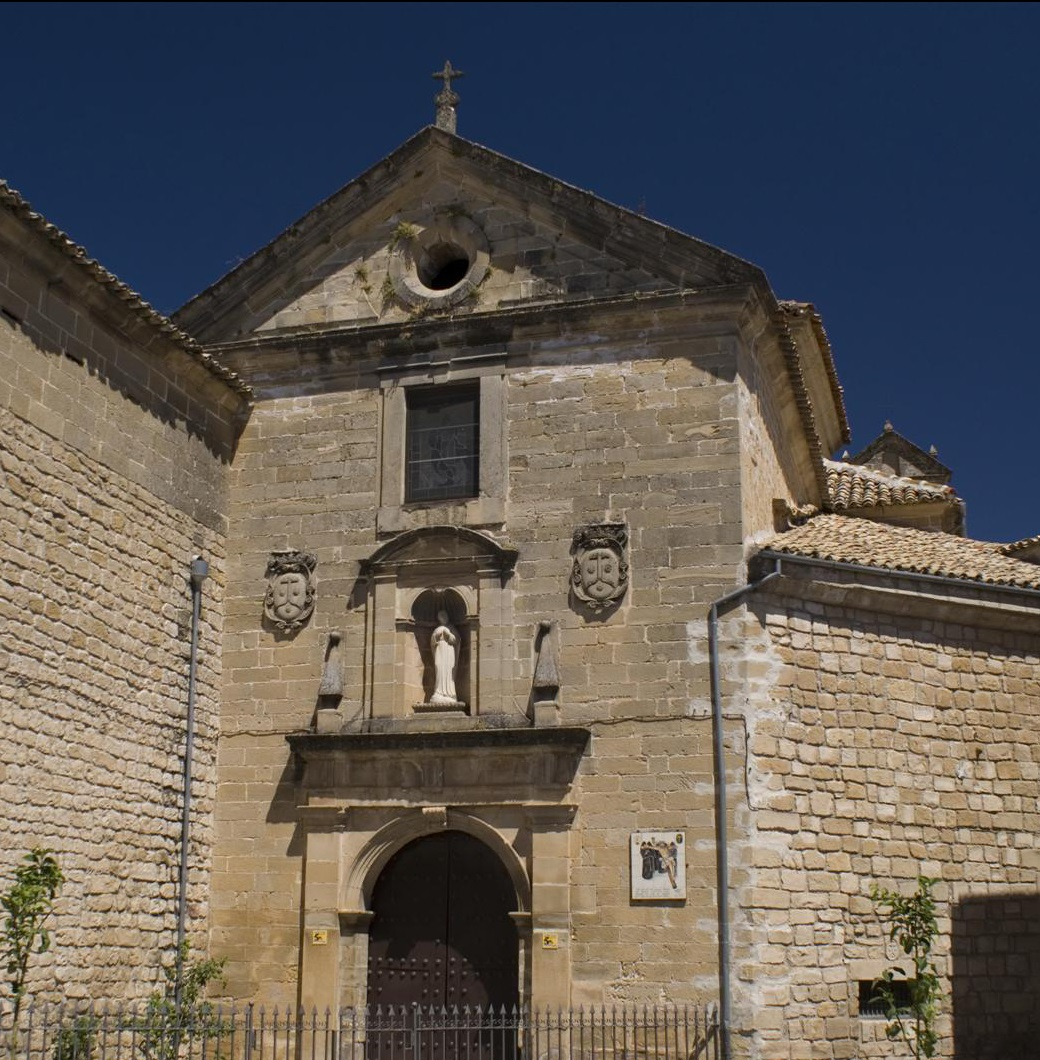arco-medio-punto: (356, 812, 531, 936)
fronton-curvo: (362, 523, 512, 571)
ojo-de-buey: (402, 219, 479, 297)
vano-adintelado: (373, 349, 510, 507)
